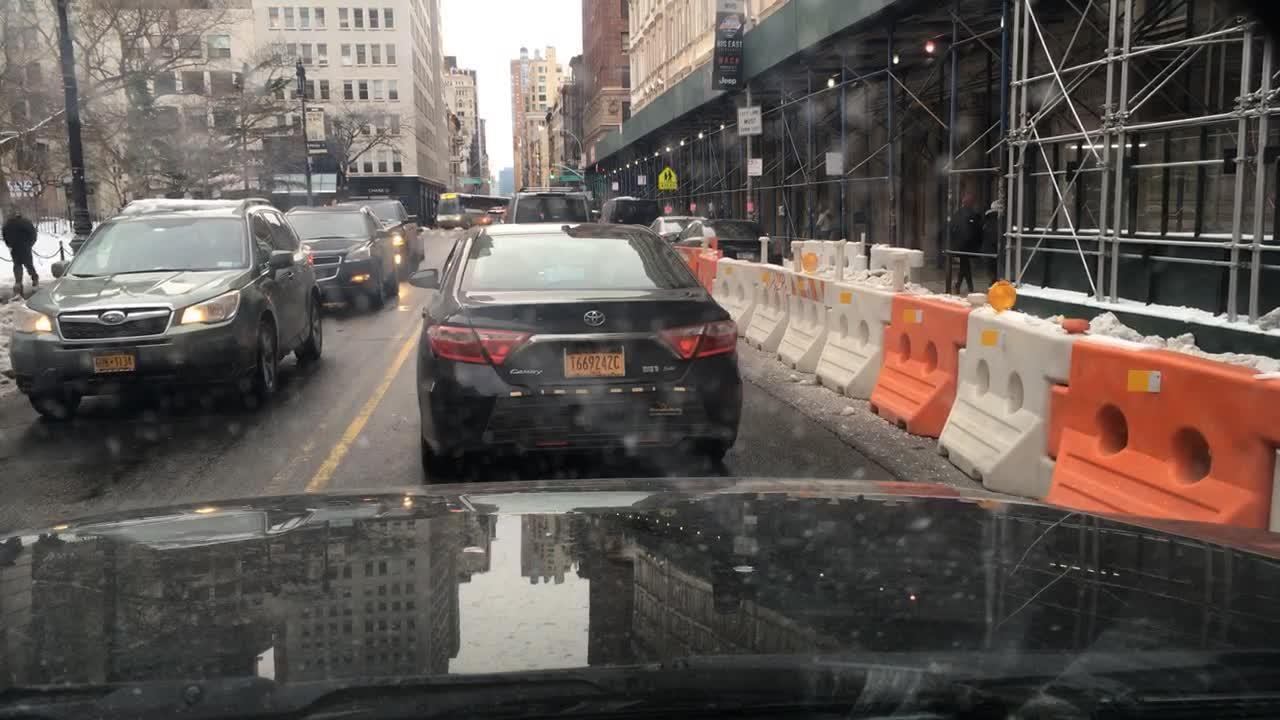Toyota: (573, 303, 612, 330)
subaru: (97, 305, 133, 328)
